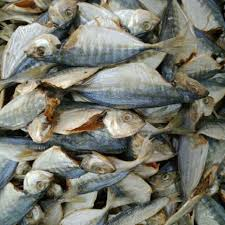Ikan Selar: (24, 23, 193, 65), (32, 105, 149, 141)
